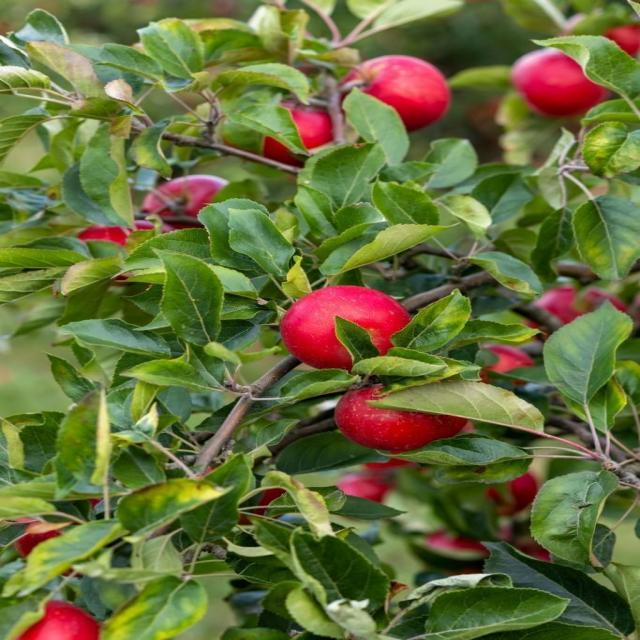Red Apple: (279, 287, 420, 372), (344, 387, 468, 454), (356, 54, 447, 131), (520, 50, 611, 109), (157, 172, 235, 232), (538, 288, 626, 333), (269, 110, 346, 151), (430, 522, 487, 572), (15, 511, 69, 561), (26, 602, 95, 640), (503, 526, 549, 570), (348, 467, 409, 500), (90, 226, 146, 259), (243, 482, 283, 526), (596, 19, 640, 57), (482, 349, 532, 380), (496, 476, 540, 509)
